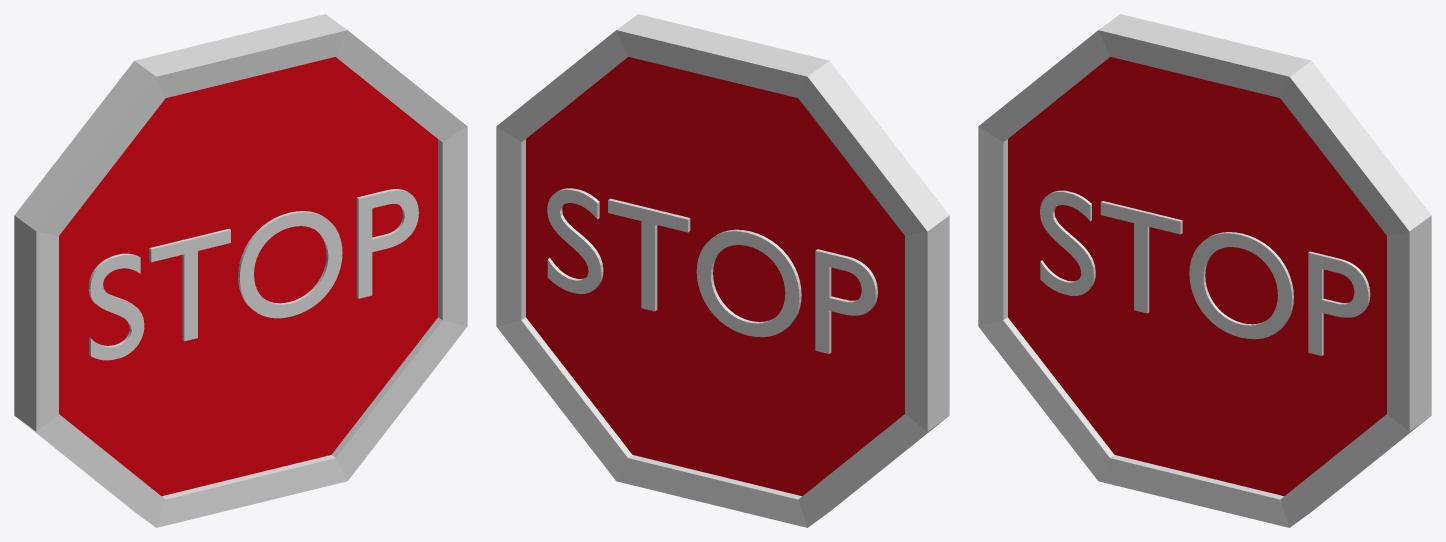
Rendered from ovira.glb.
3 views of the same model, side by side, from view 1: azimuth 30°, elevation 25°; view 2: azimuth 150°, elevation 25°; view 3: azimuth 330°, elevation 25° (orthographic).
Parts seen in each view (by area): view 1: Stop; view 2: Stop; view 3: Stop.
Part boxes in pixels (<box>): Stop: <box>14,14,467,527</box>; Stop: <box>496,14,949,527</box>; Stop: <box>978,14,1431,527</box>.
Bounding box in the file's own units: 2 × 2 × 0.1771.
